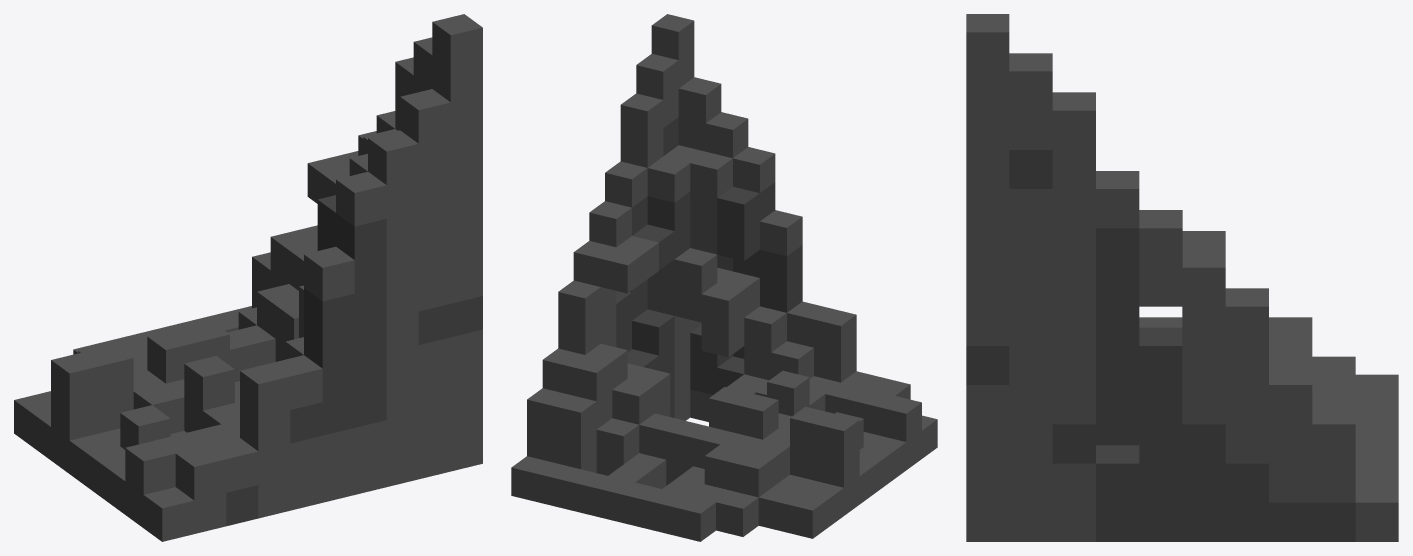
File: Stein_ecke_ebene-2.0.obj
3 views of the same model, side by side, from view 1: azimuth 30°, elevation 25°; view 2: azimuth 150°, elevation 25°; view 3: azimuth 270°, elevation 25° (orthographic). The views are drawn at different scales.
Bounding box in the file's own units: 1 × 1.3 × 1.
Materials: 1 (1 with a texture image).
